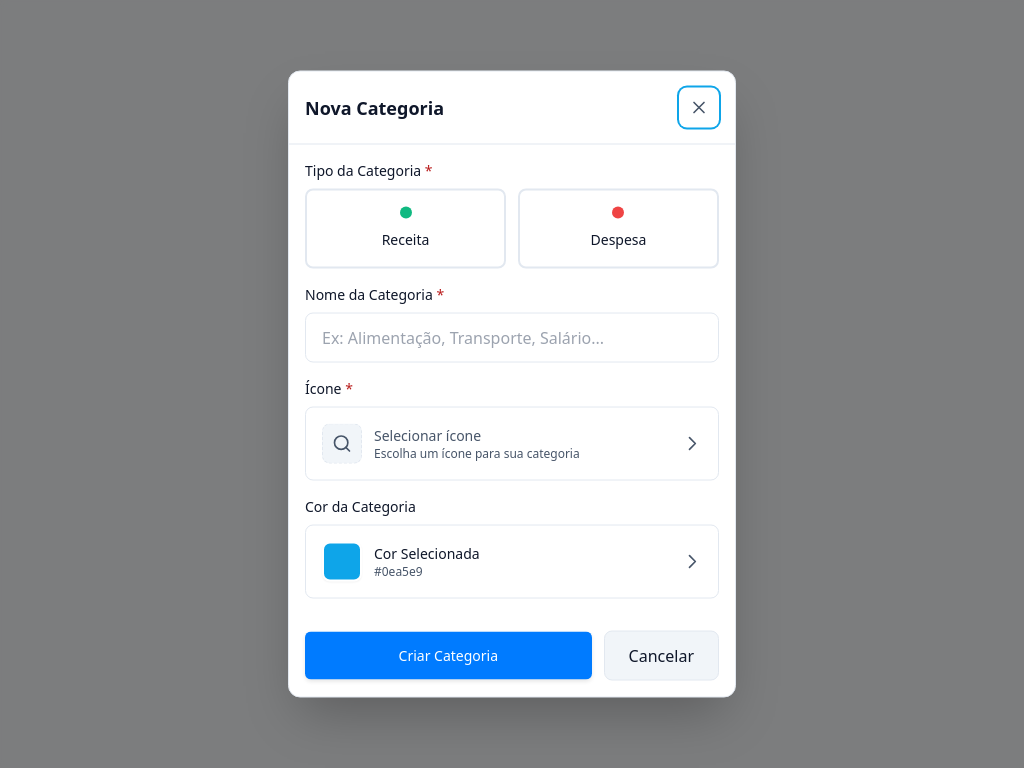
Test: NovaCategoriaModal › deve mostrar erro quando nome é muito curto
Note: Selecionar tipo
Click the button "Despesa" at (618, 228), box [518, 188, 719, 268]
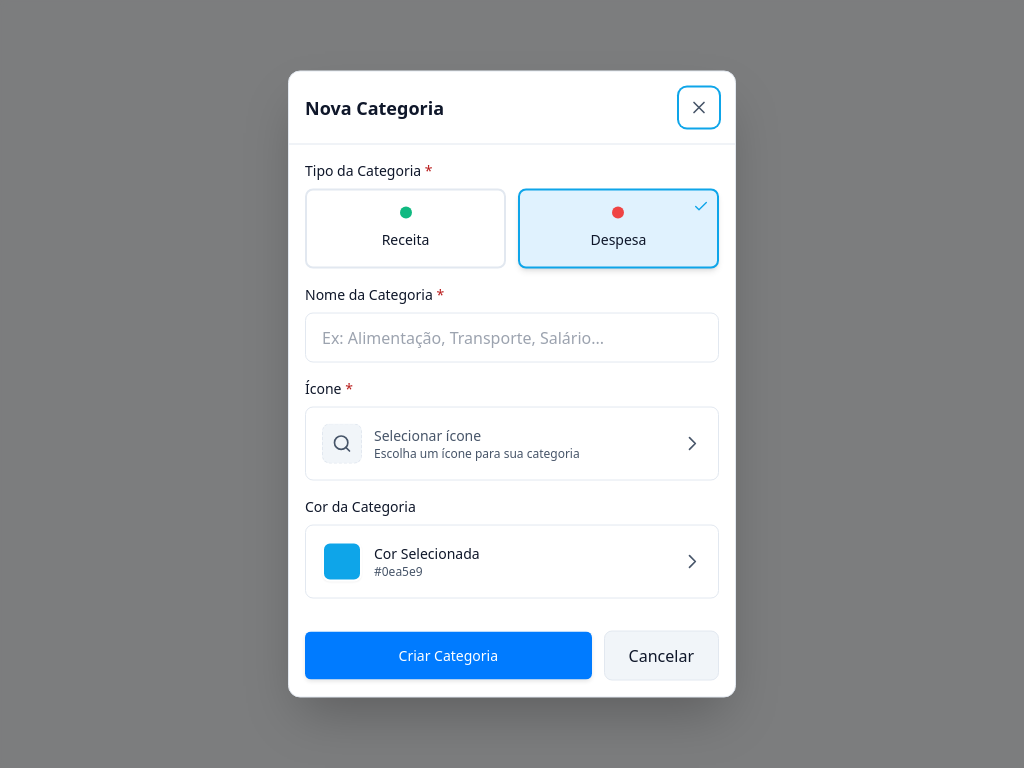
Note: Digitar nome curto
Type "A" into the field with placeholder "Ex: Alimentação, Transporte, Salário..." at (512, 338), box [305, 312, 719, 362]
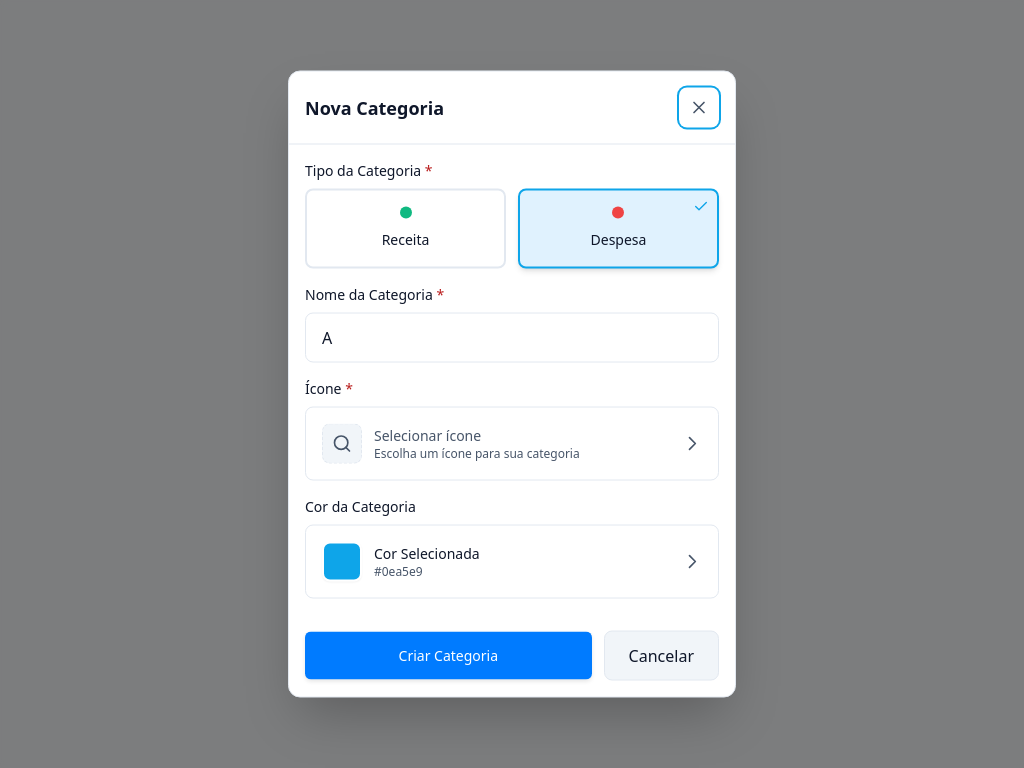
Click the button "Criar Categoria" at (448, 656), box [305, 632, 592, 680]
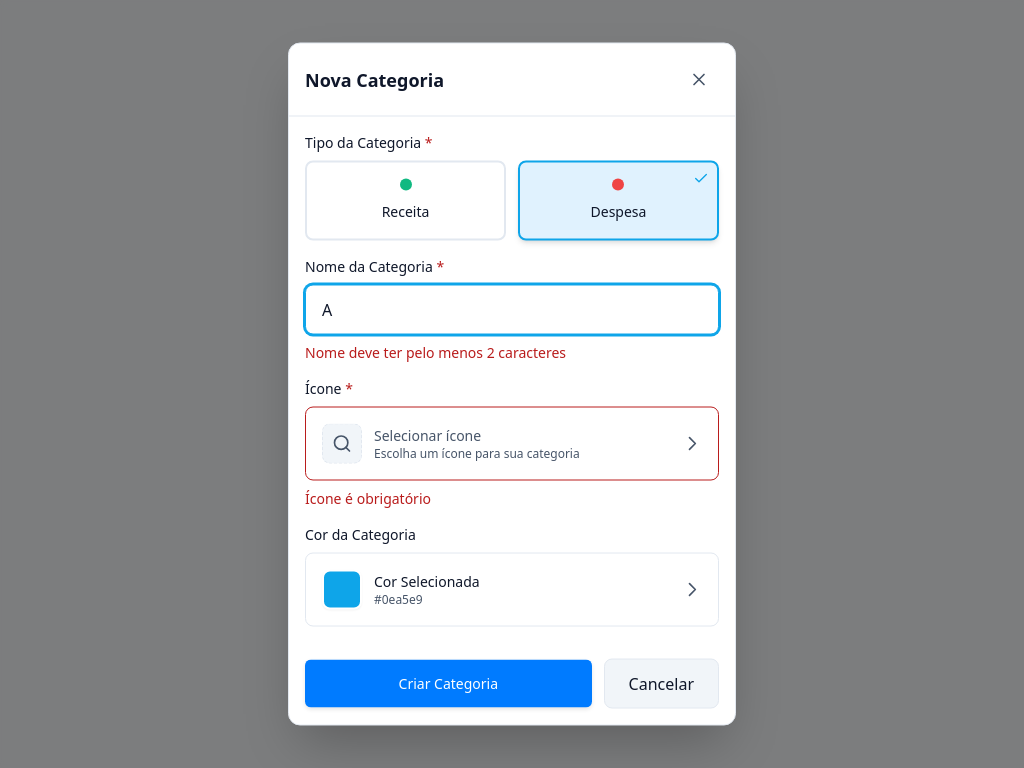
Now the text "Nome deve ter pelo menos 2 caracteres" is shown, box [305, 342, 566, 362]
